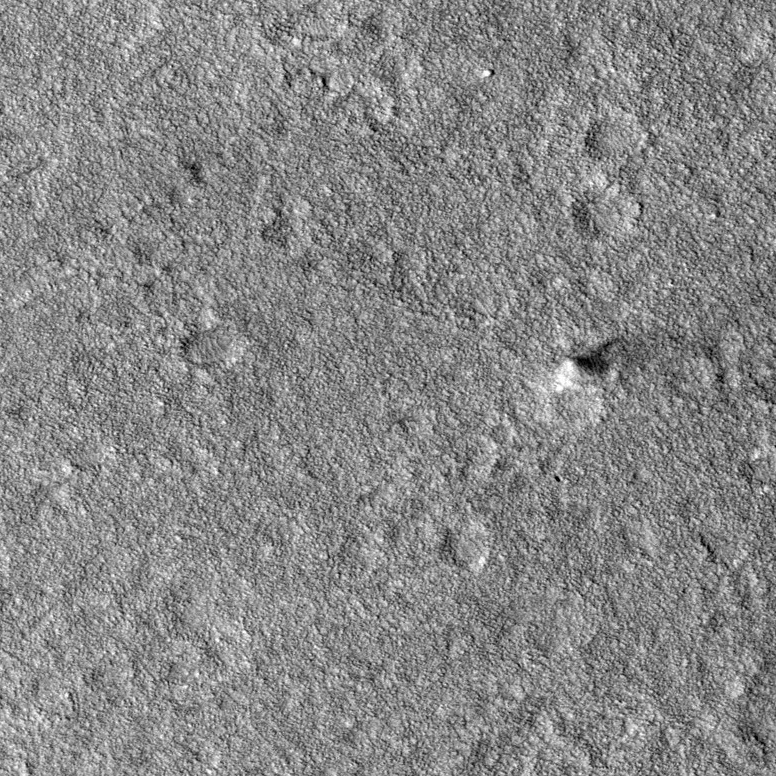dust_devil: (551, 335, 623, 390)
